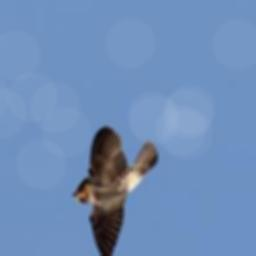Swallow: (69, 125, 160, 256)
